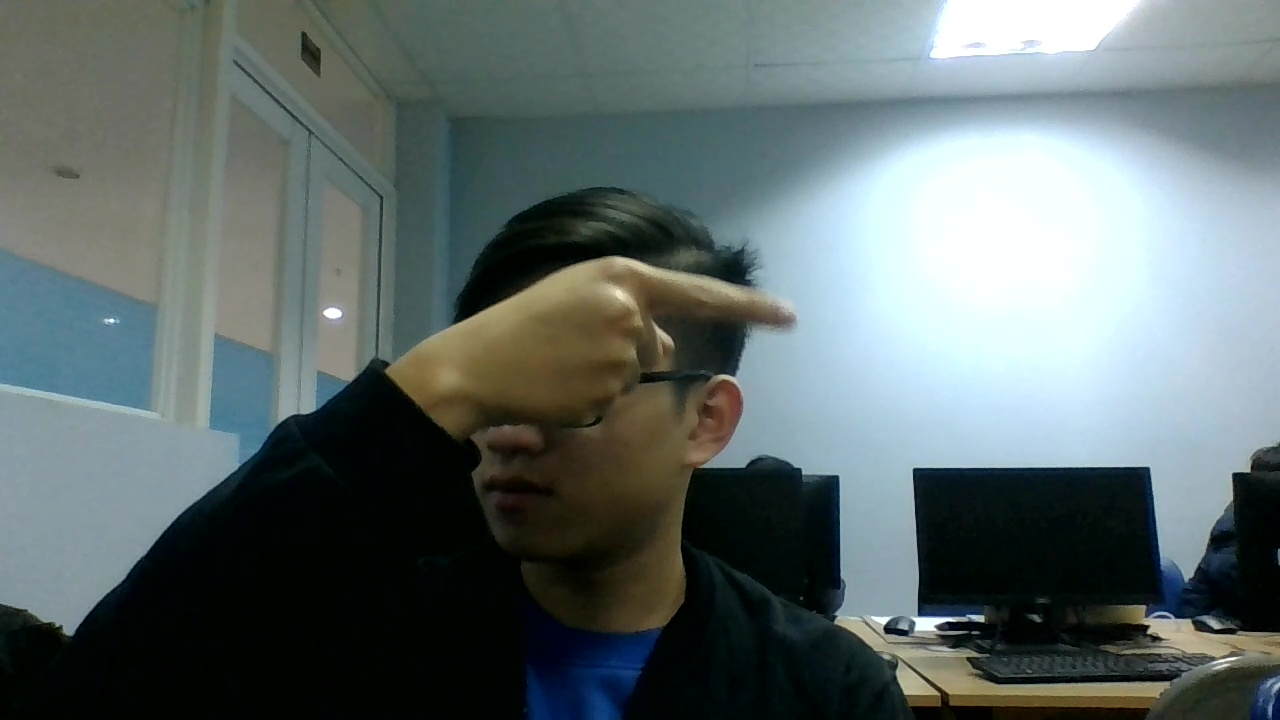left: (461, 252, 837, 437)
